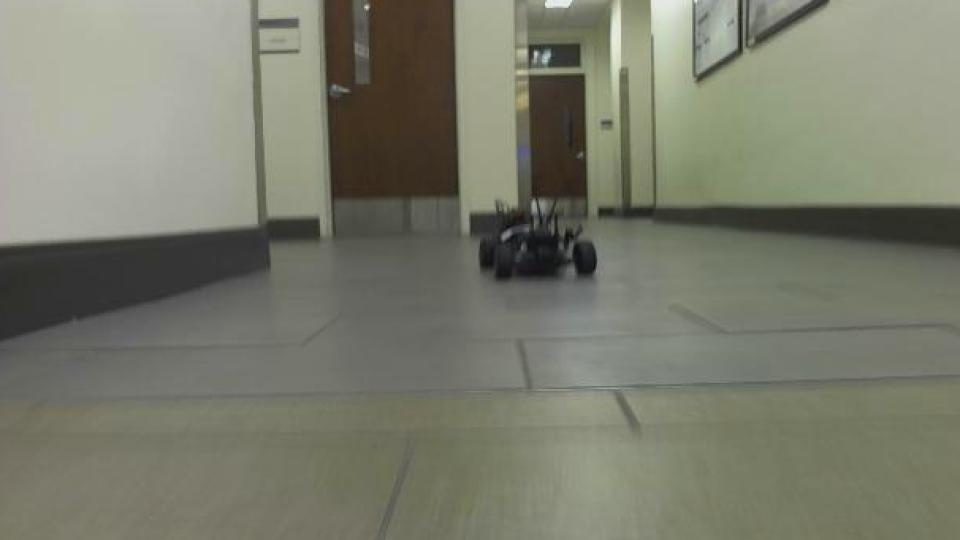car: (475, 194, 602, 282)
